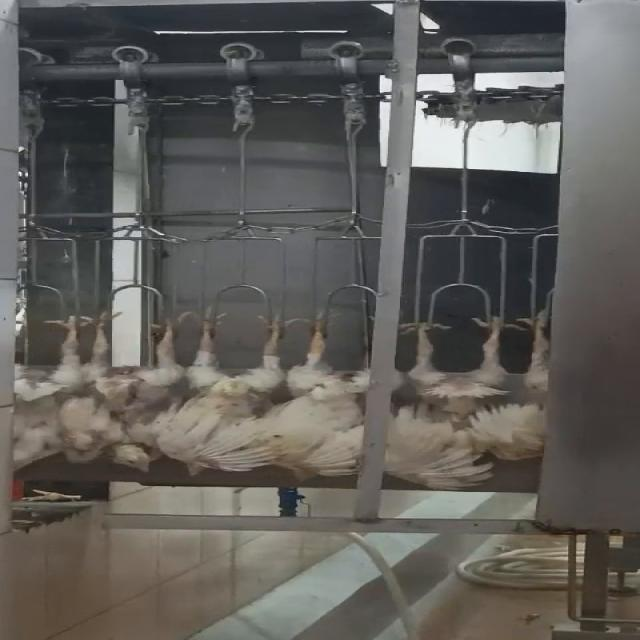chicken: (375, 306, 509, 495), (162, 307, 309, 478), (261, 303, 376, 486), (0, 298, 96, 472), (90, 306, 178, 478), (494, 307, 571, 467)
